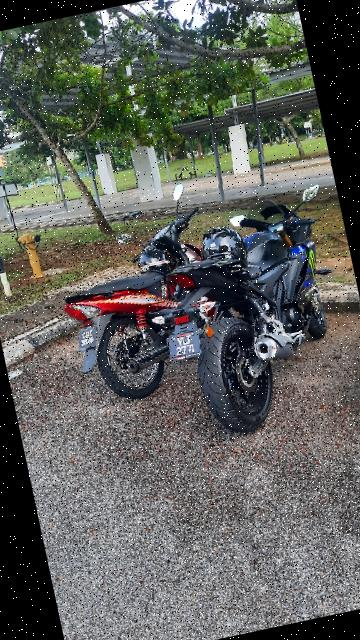License_Plate: (166, 328, 206, 365), (74, 324, 102, 352)
motorcycle: (144, 181, 360, 446), (42, 180, 235, 414)
